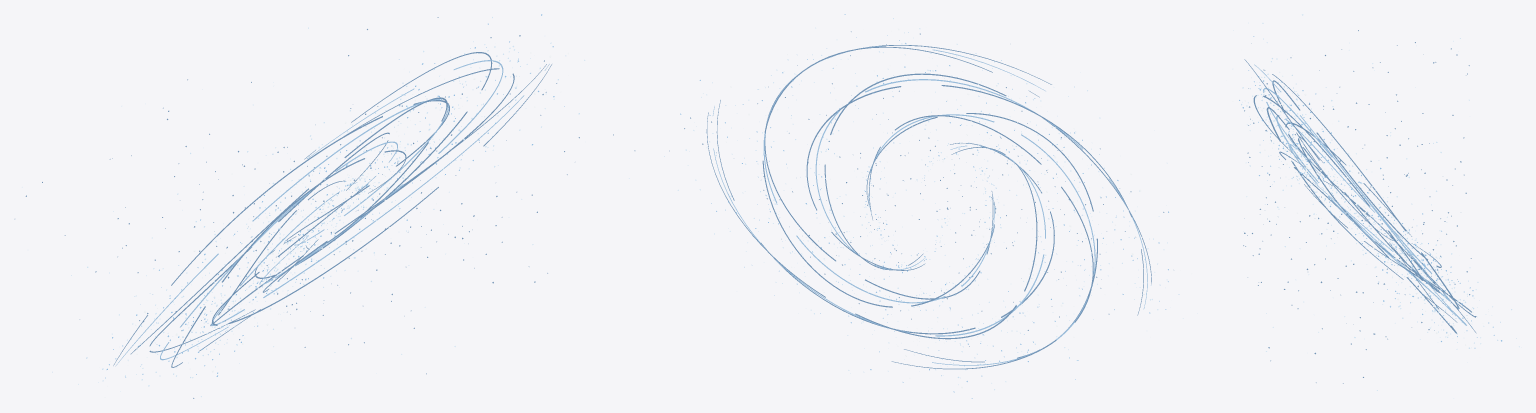
The model's file is Stardust_Cluster.glb.
3 renders of one model, left to right at view 1: azimuth 30°, elevation 25°; view 2: azimuth 150°, elevation 25°; view 3: azimuth 270°, elevation 25°, orthographic. The views are drawn at different scales.
Parts seen in each view (by area): view 1: Stardust_Cluster; view 2: Stardust_Cluster; view 3: Stardust_Cluster.
Part boxes in pixels (x1=…): Stardust_Cluster: x1=14, y1=14, x2=635, y2=398; Stardust_Cluster: x1=664, y1=14, x2=1191, y2=398; Stardust_Cluster: x1=1226, y1=14, x2=1521, y2=398.
Size of the model in its own units: 0.5957 by 0.3523 by 0.2848.
